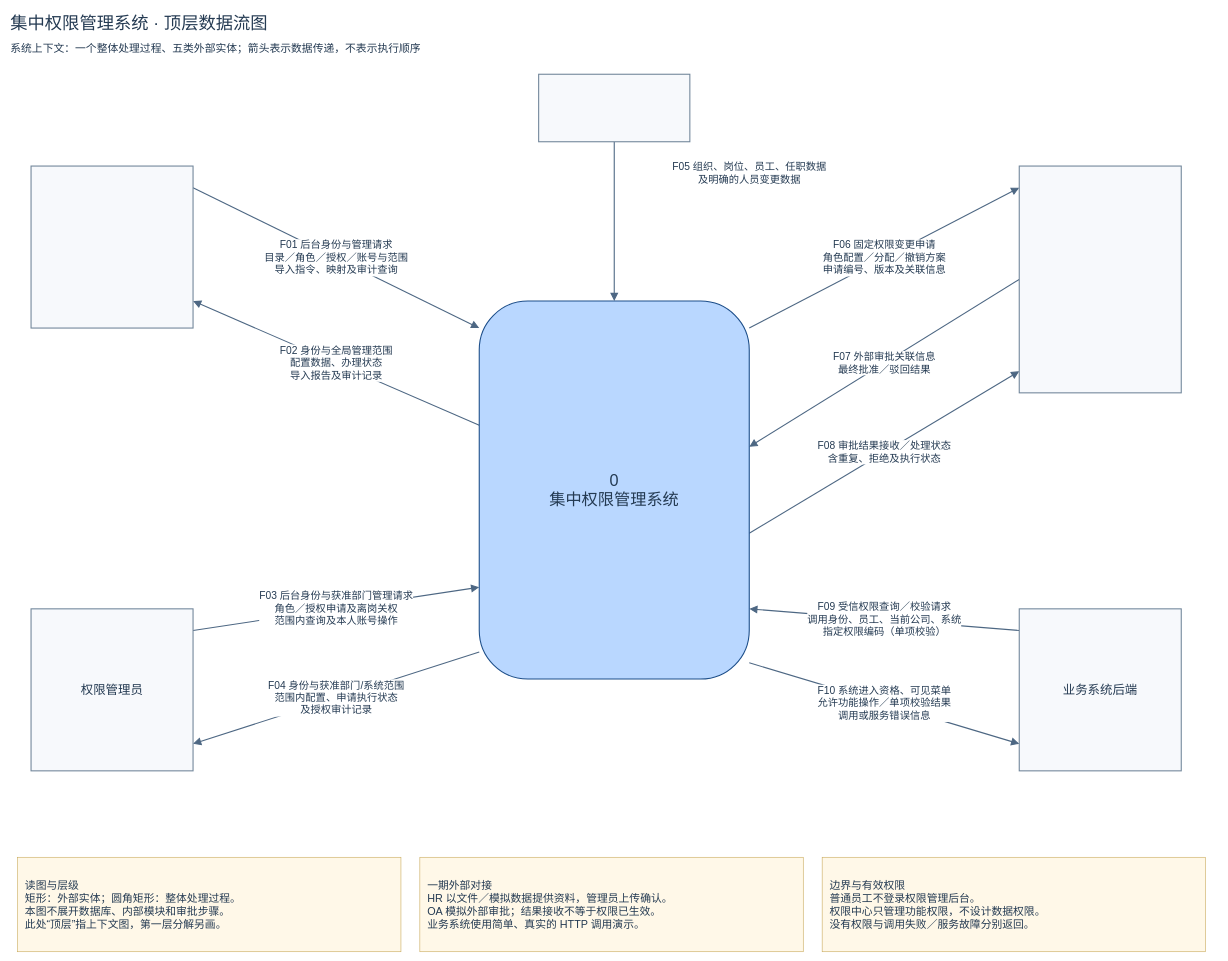
Image size: 1228x961. Some labels were removed from this diagram. Each missing label, with the box of its shape:
HR 系统 人员组织数据来源: (538, 73, 690, 142)
OA 系统: (1018, 165, 1182, 393)
权限中心总管理员: (30, 165, 193, 328)
